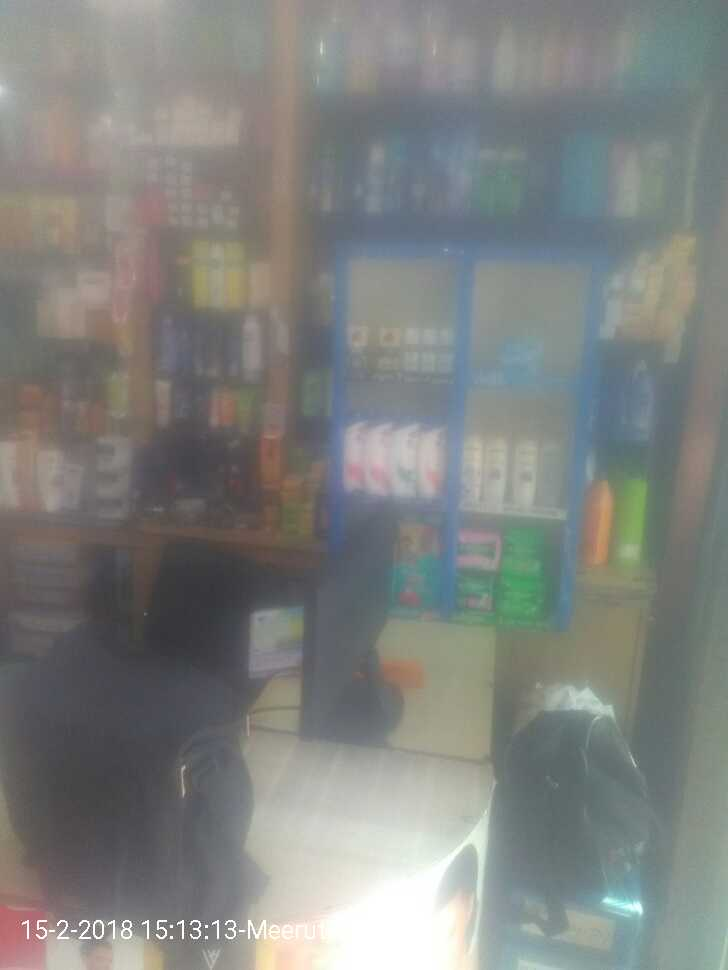venus: (506, 338, 546, 373)
